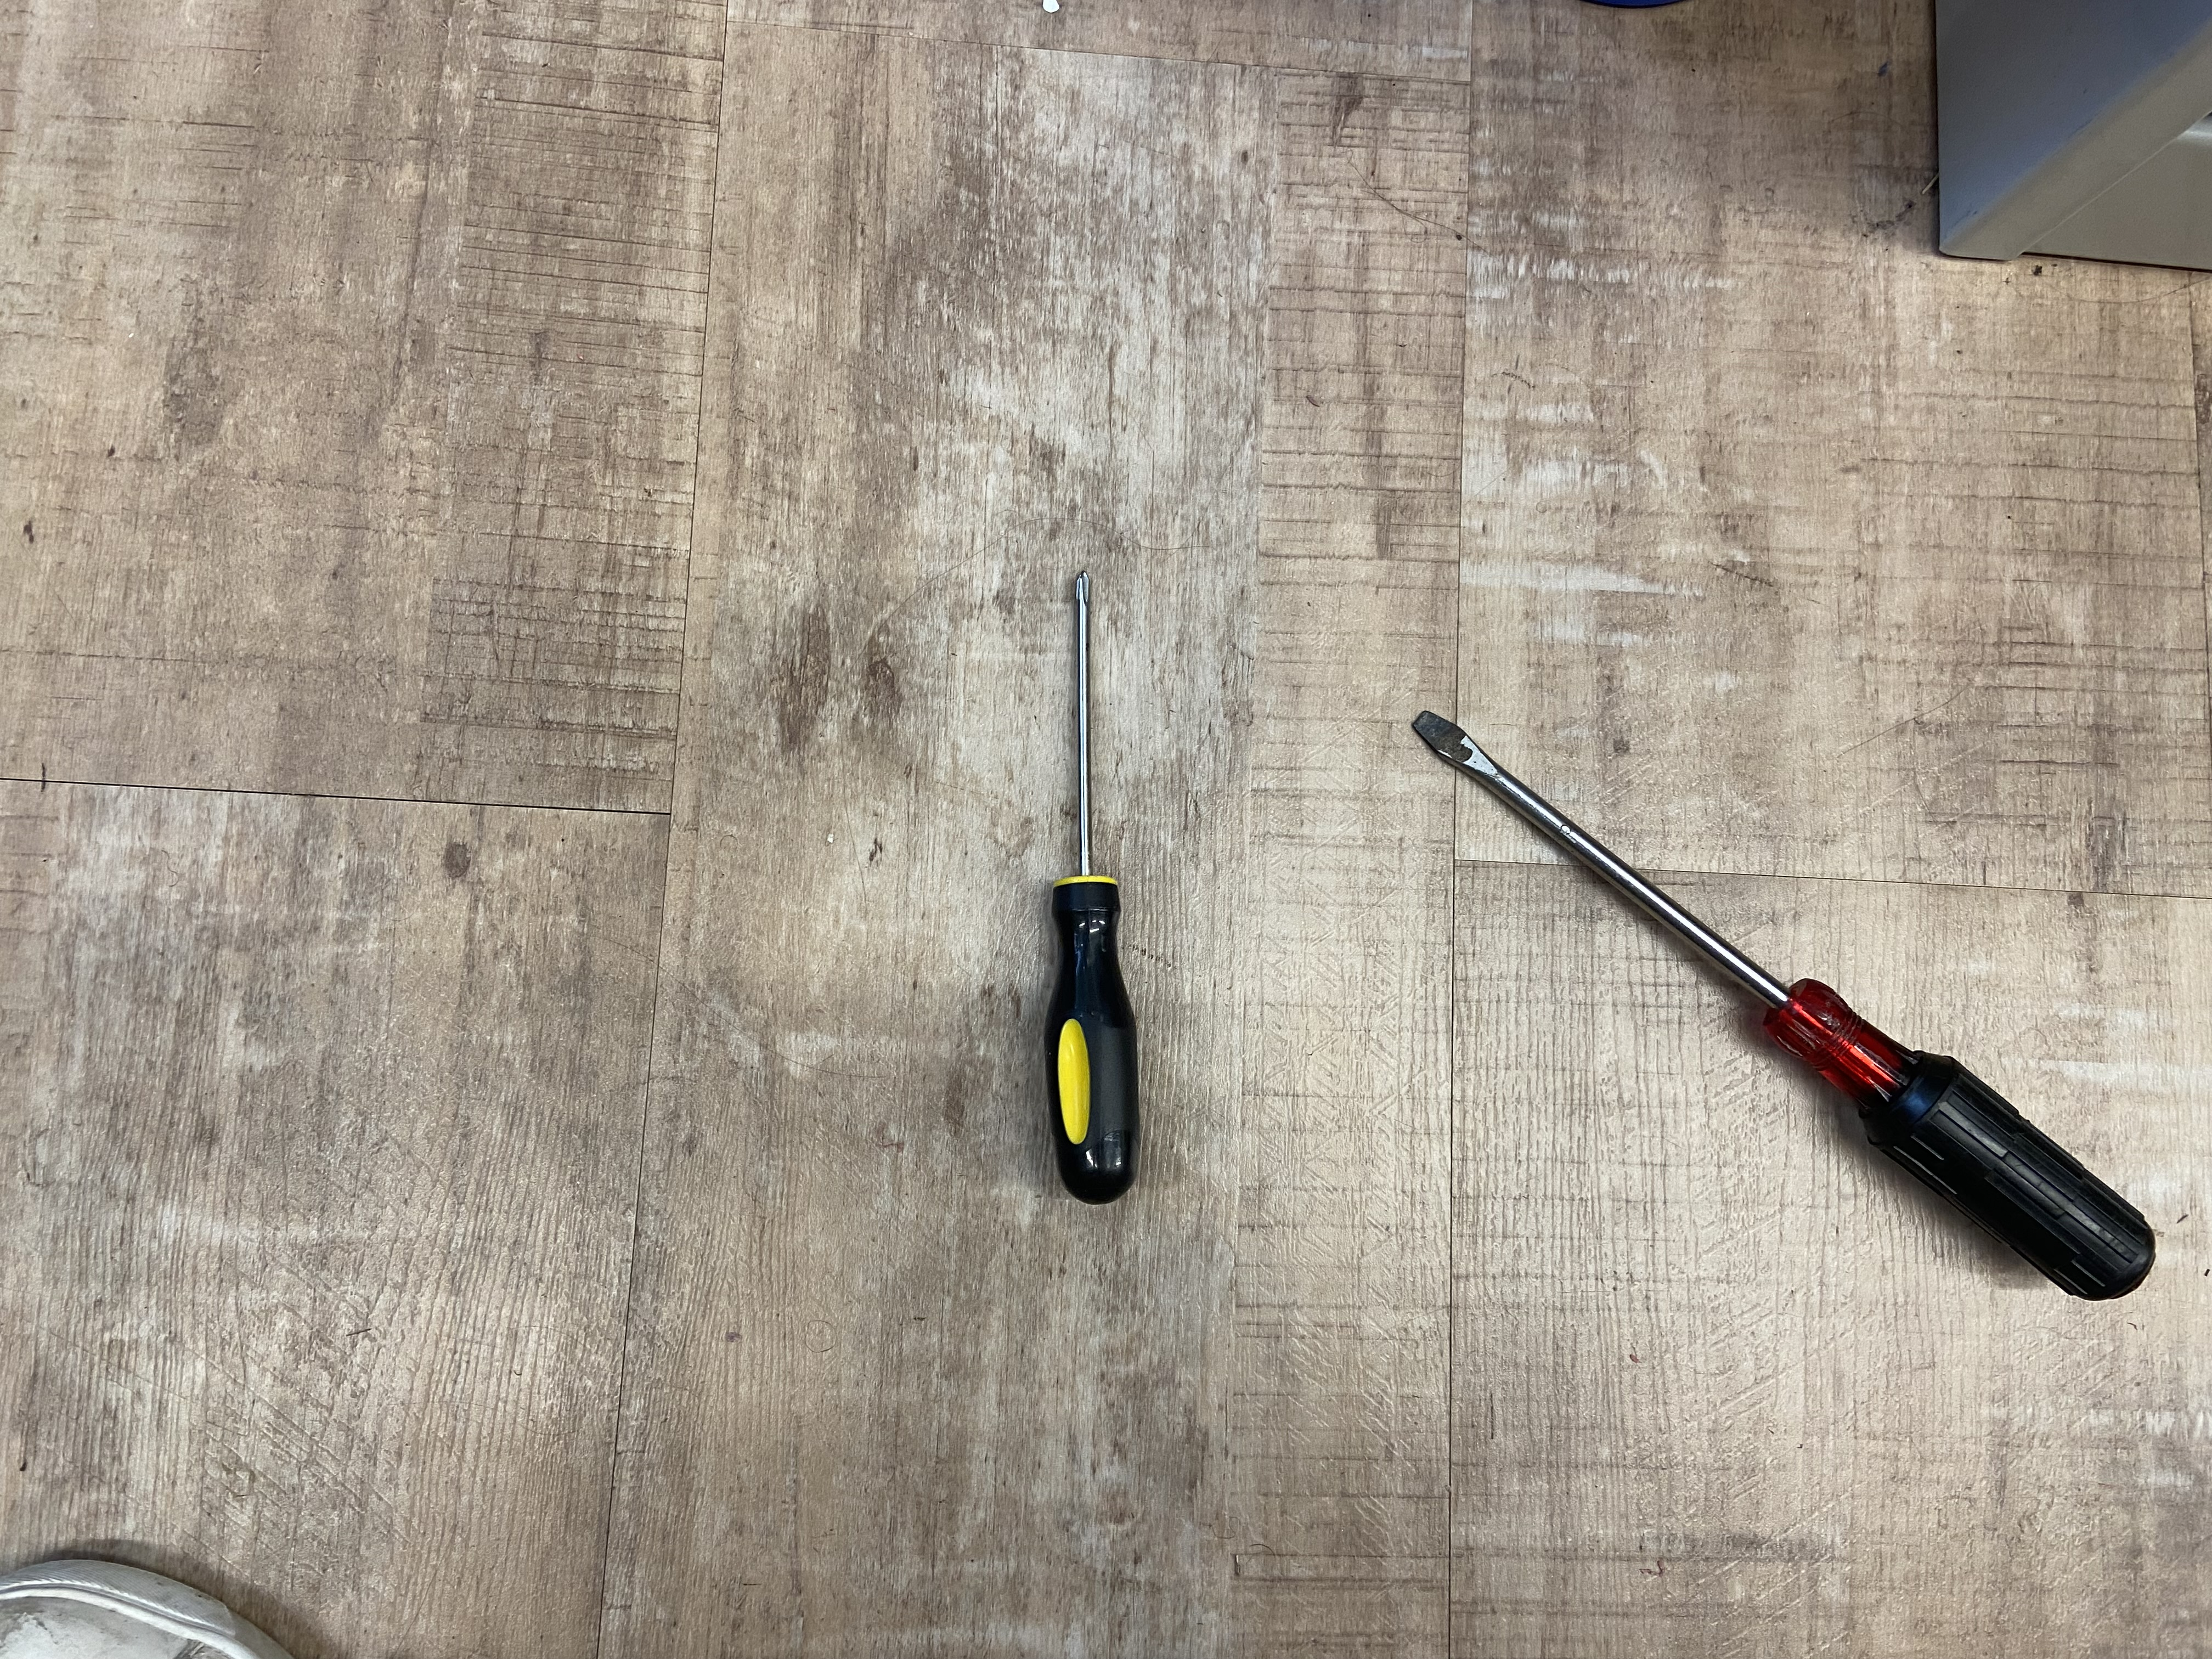screwdriver: (1402, 701, 2153, 1290), (1042, 558, 1144, 1192)
